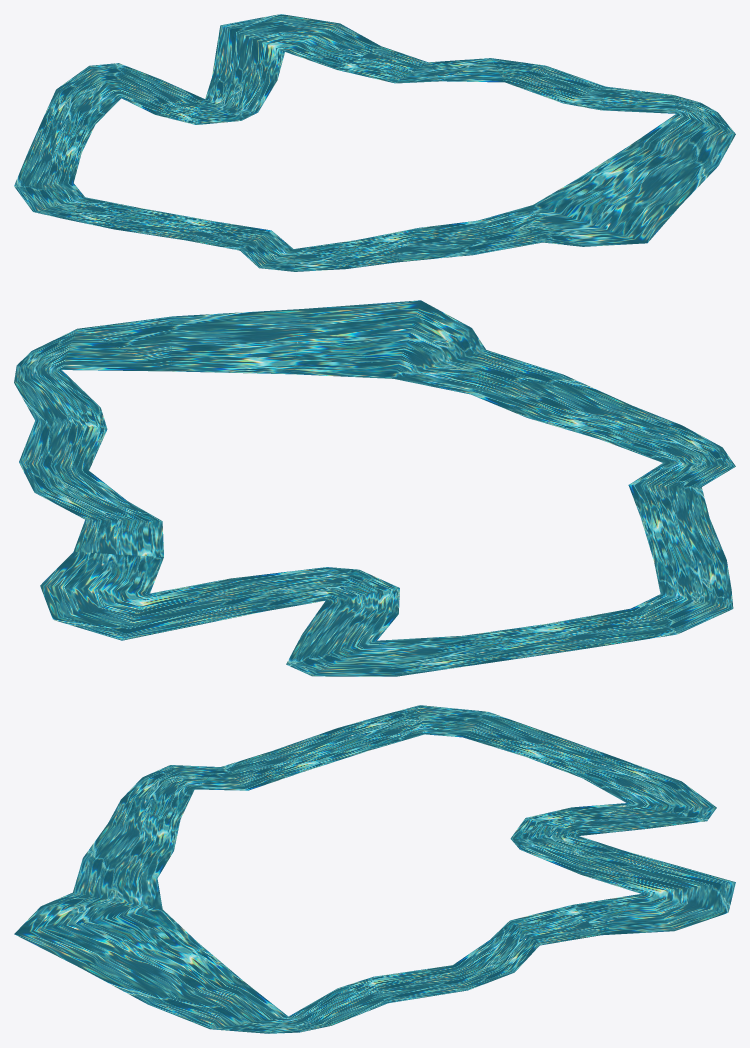
File: TR_stage01_waterplane.fbx
3 views of the same model, one above another, from view 1: azimuth 30°, elevation 25°; view 2: azimuth 150°, elevation 25°; view 3: azimuth 270°, elevation 25° (orthographic). The views are drawn at different scales.
Parts seen in each view (by area): view 1: TR_stage01_waterplane; view 2: TR_stage01_waterplane; view 3: TR_stage01_waterplane.
Boxes of the visible parts, box(x1,y1,x2,y2) form: TR_stage01_waterplane: box(14, 14, 735, 271); TR_stage01_waterplane: box(14, 300, 735, 676); TR_stage01_waterplane: box(14, 705, 735, 1033).
Bounding box in the file's own units: 106356 × 36 × 98731.
1 material, 1 textured.
